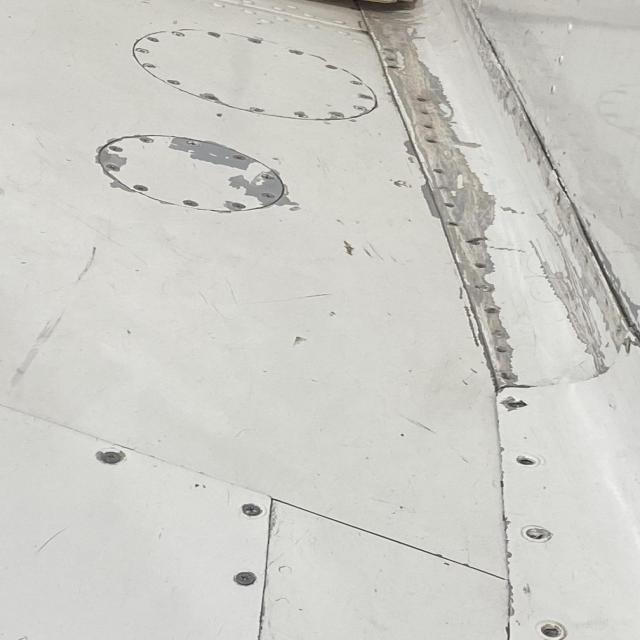Crack: (513, 98, 578, 228), (470, 9, 508, 73)
Missing-head: (539, 622, 568, 640), (523, 527, 552, 541), (502, 398, 528, 411), (516, 456, 537, 466)
Paint-off: (226, 160, 296, 211), (169, 136, 265, 169), (418, 174, 446, 231), (95, 140, 127, 170), (400, 126, 419, 162)
Scratch: (361, 8, 517, 387), (516, 217, 636, 380)
